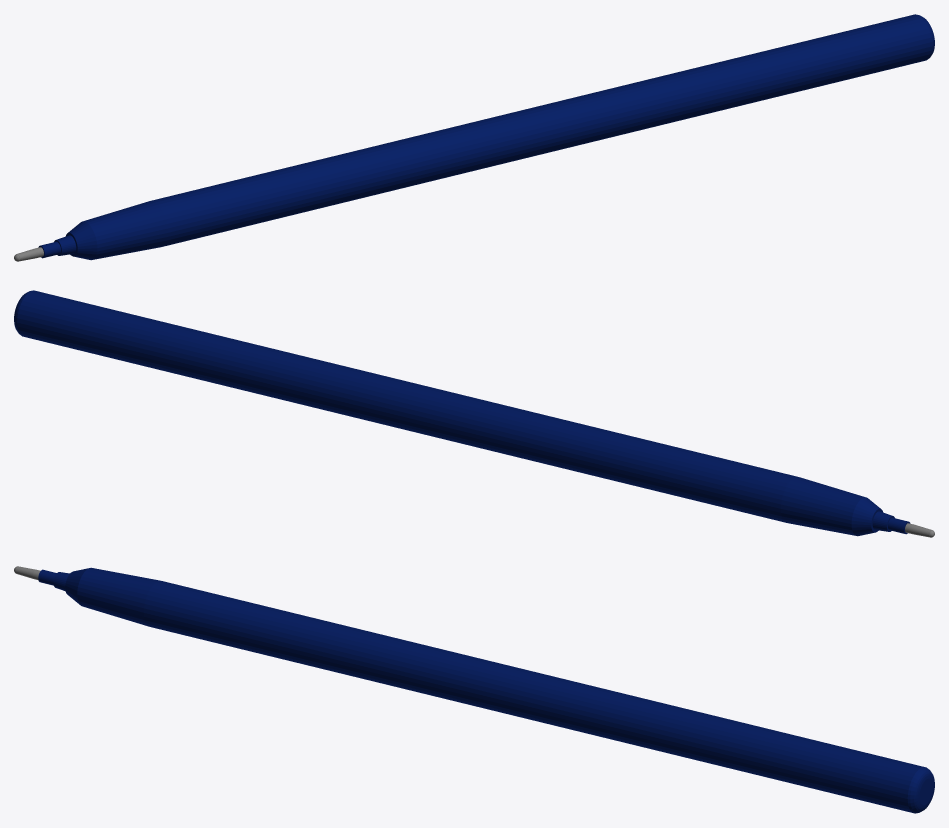
The model's file is KALEM1.fbx.
3 renders of one model, top to bottom at view 1: azimuth 30°, elevation 25°; view 2: azimuth 150°, elevation 25°; view 3: azimuth 330°, elevation 25°, orthographic.
Parts seen in each view (by area): view 1: kalem; view 2: kalem; view 3: kalem.
Part boxes in pixels (left/top/right/bottom): kalem: left=14, top=14, right=934, bottom=261; kalem: left=14, top=290, right=934, bottom=537; kalem: left=14, top=566, right=934, bottom=813.
Bounding box in the file's own units: 274 × 12.35 × 12.56.
